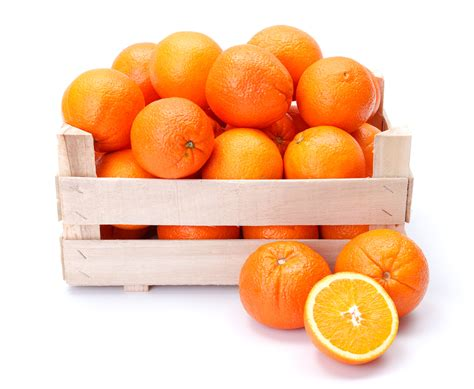orange: (236, 239, 334, 332), (333, 227, 432, 317), (205, 42, 298, 129), (127, 96, 218, 182), (57, 66, 142, 150), (292, 52, 378, 135), (146, 28, 228, 101), (286, 125, 366, 186)
